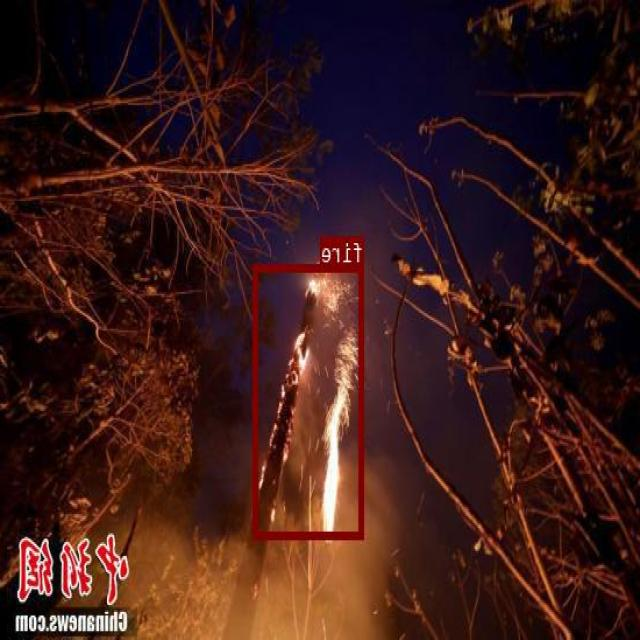fire: (254, 263, 365, 537)
